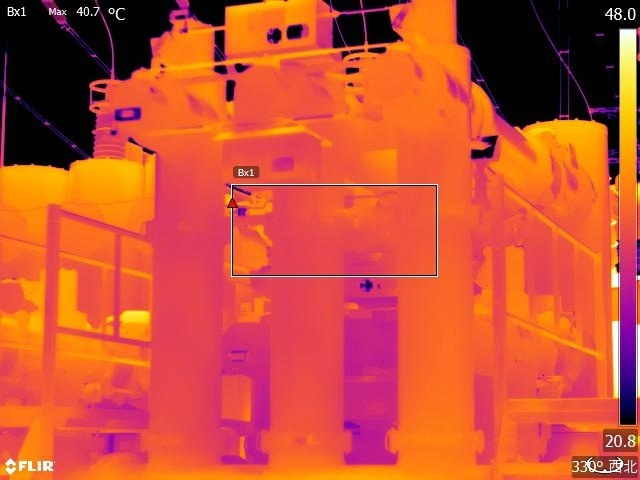tube: (82, 76, 135, 168)
